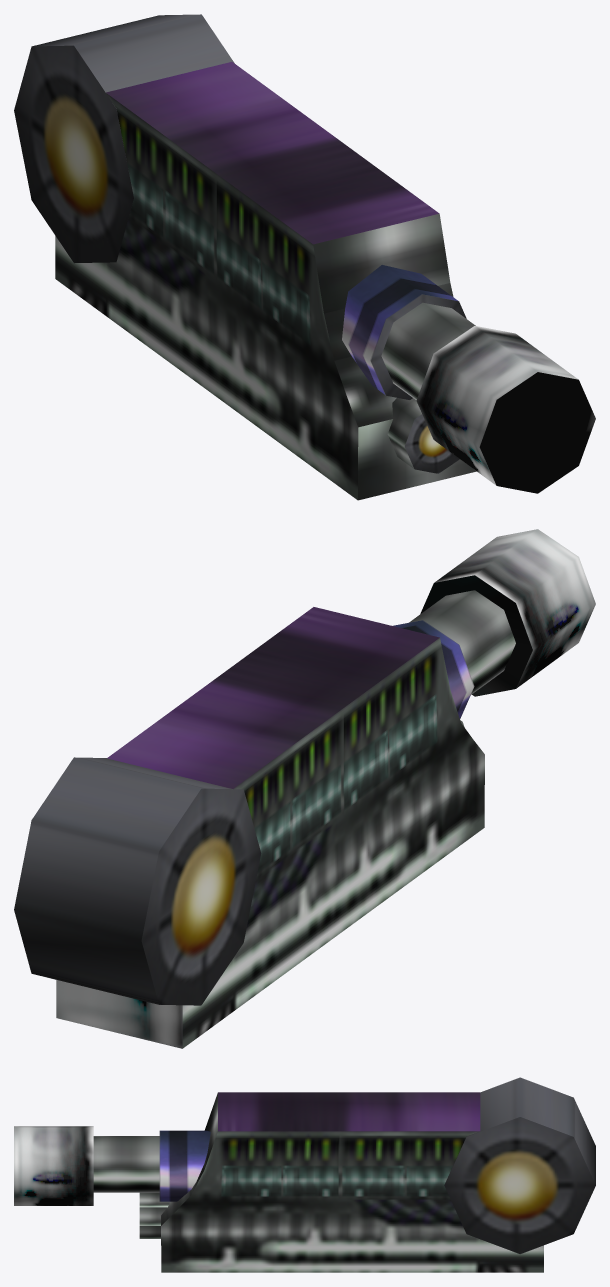
File: wep91_static.obj
The picture shows the model from 3 angles, top to bottom: view 1: azimuth 30°, elevation 25°; view 2: azimuth 150°, elevation 25°; view 3: azimuth 270°, elevation 25°; orthographic projection. The views are drawn at different scales.
Visible parts, largest first — view 1: frm-cube1, frm-cyl8, frm-cyl7, frm-cyl4, frm-cyl5, frm-cyl6; view 2: frm-cube1, frm-cyl8, frm-cyl7, frm-cyl5, frm-cyl4; view 3: frm-cube1, frm-cyl8, frm-cyl7, frm-cyl5, frm-cyl4, frm-cyl6.
Part boxes in pixels (box(x1,y1,x2,y2)): frm-cube1: box(55, 62, 476, 500); frm-cyl8: box(14, 14, 234, 263); frm-cyl7: box(416, 326, 595, 493); frm-cyl4: box(342, 265, 466, 399); frm-cyl5: box(381, 302, 475, 400); frm-cyl6: box(387, 398, 459, 473); frm-cube1: box(56, 607, 484, 1048); frm-cyl8: box(14, 757, 261, 1005); frm-cyl7: box(420, 529, 595, 696); frm-cyl5: box(409, 590, 515, 694); frm-cyl4: box(393, 620, 474, 718); frm-cube1: box(161, 1092, 543, 1272); frm-cyl8: box(444, 1077, 595, 1254); frm-cyl7: box(14, 1126, 93, 1205); frm-cyl5: box(93, 1136, 159, 1192); frm-cyl4: box(159, 1130, 210, 1201); frm-cyl6: box(139, 1192, 169, 1238).
Size of the model in its own units: 1.59 by 2.93 by 9.92.
